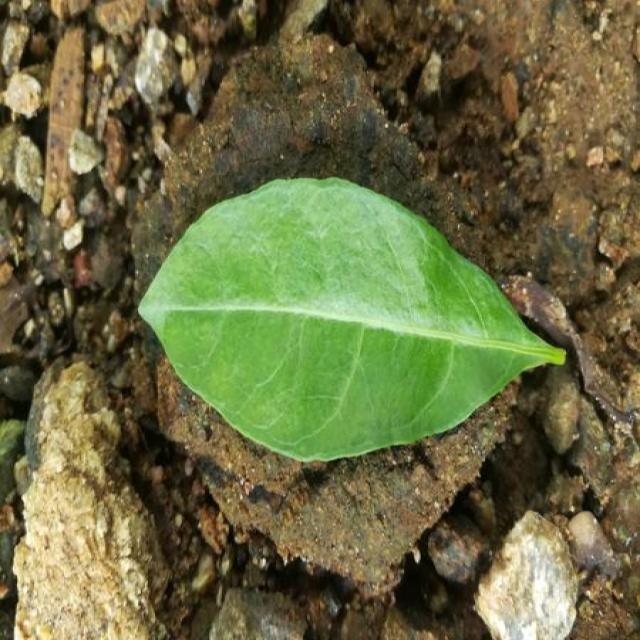henna: (140, 179, 565, 461)
